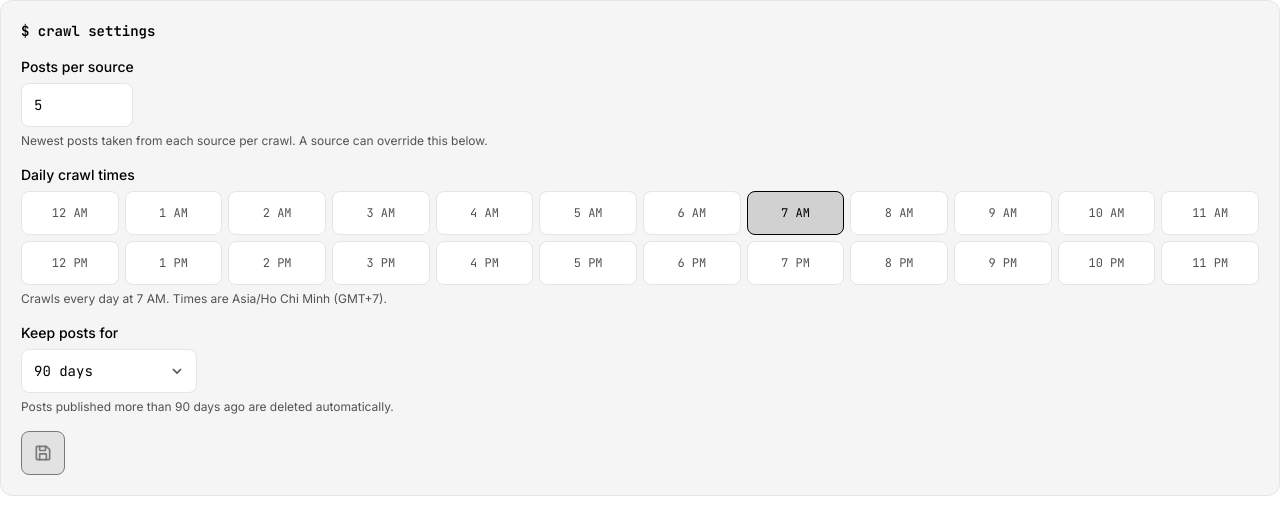
Test: CrawlSettingsPanel › saves the edited posts count and sorted hours
Replace the text in the number field labelled "Posts per source" with "10" at (77, 105), box [21,83,133,127]
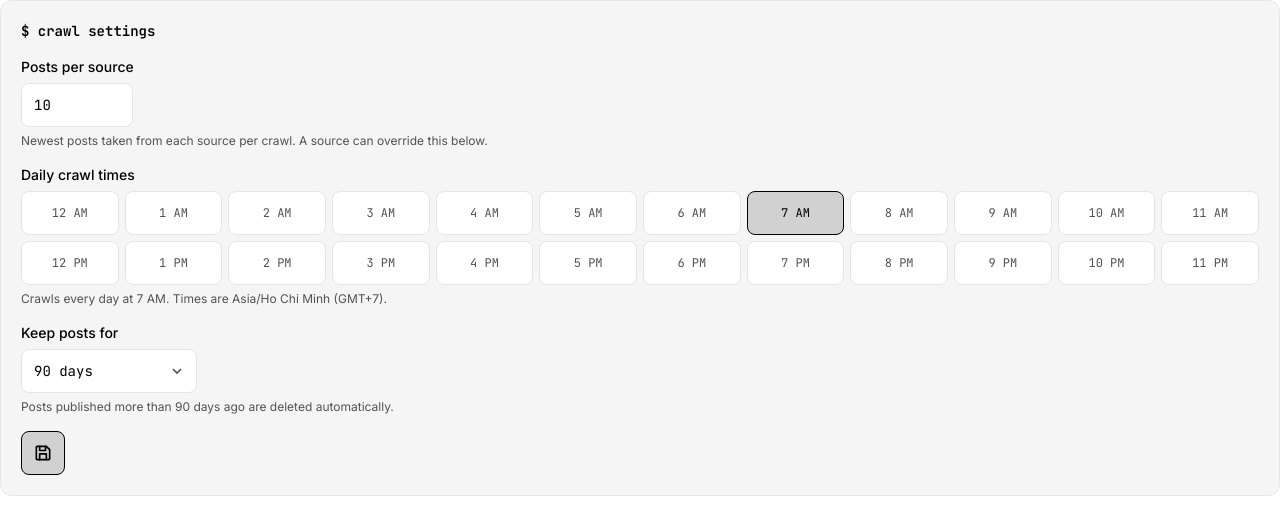
Click the button "1 PM" at (174, 263), box [125,241,222,285]
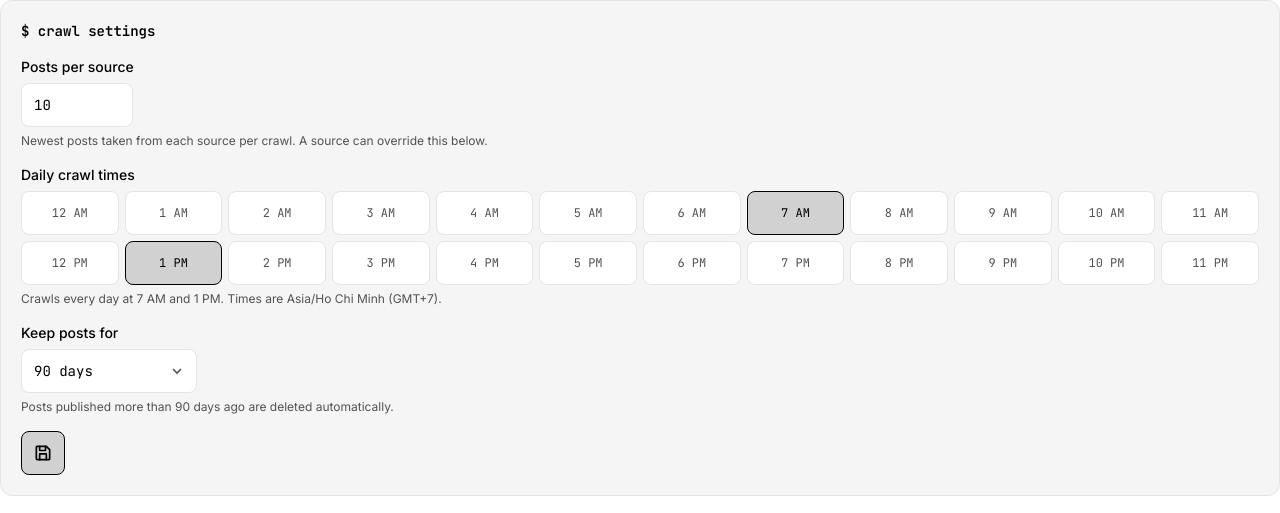
Click the button "8 AM" at (899, 213), box [850,191,948,235]
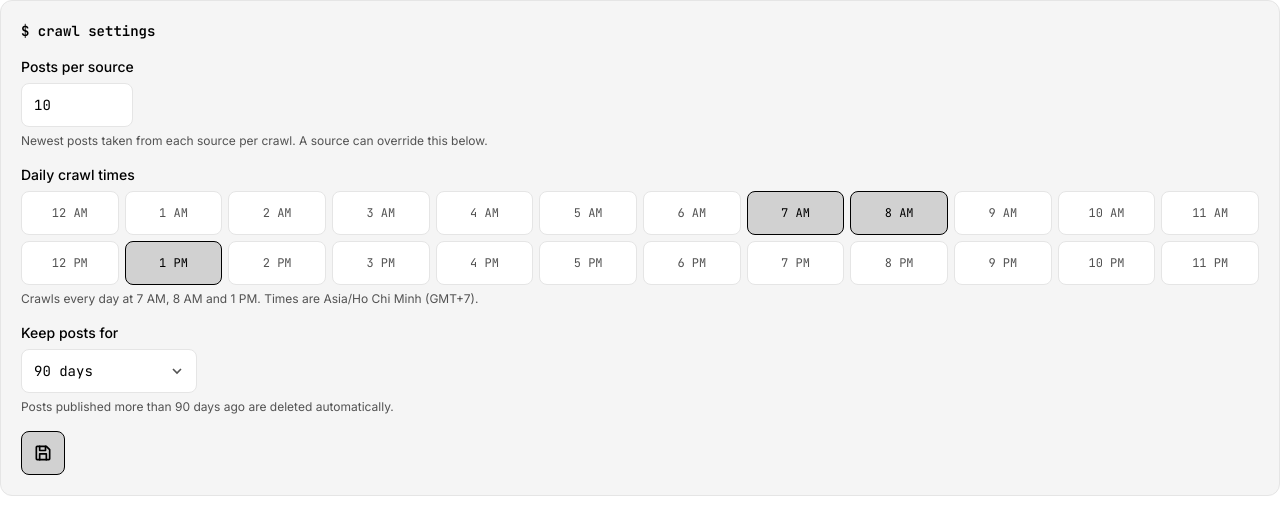
Click the button "7 AM" at (796, 213), box [747,191,844,235]
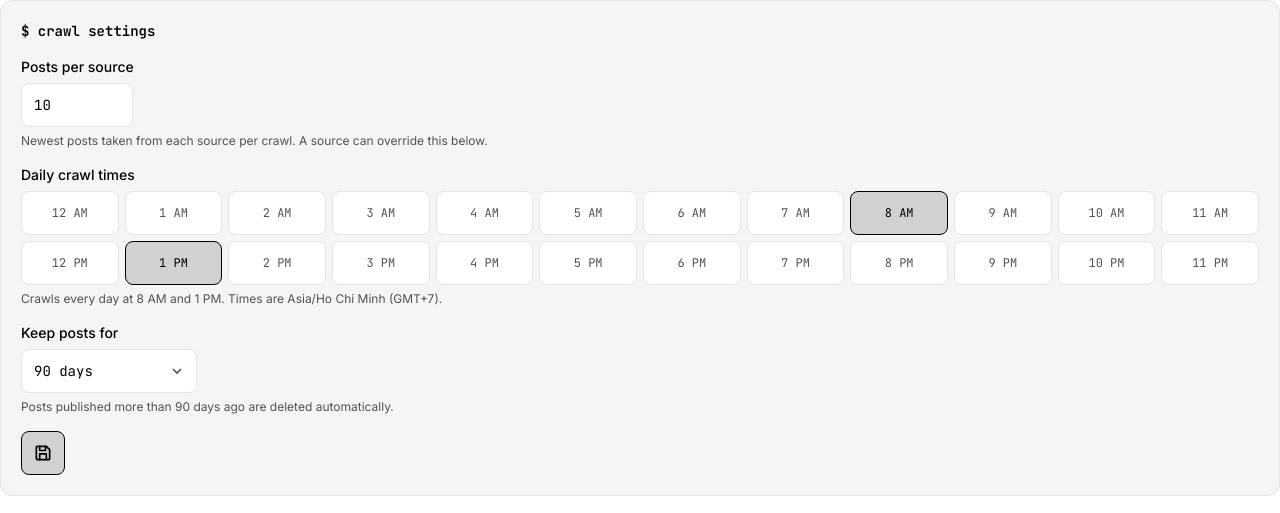
Now the text "Crawls every day at 8 AM and 1 PM." is shown, box [21,291,225,306]
Click the button named "Save settings" at (43, 453), box [21,431,65,475]
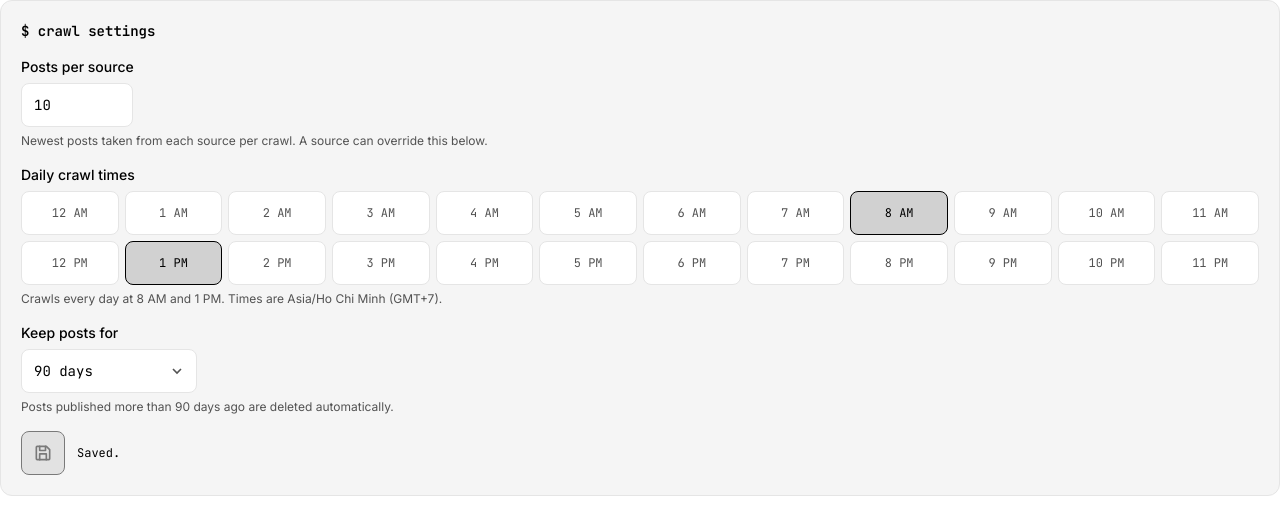
Now the text "Saved." is shown, box [77,445,120,461]
Now the button named "Save settings" is disabled, box [21,431,65,475]
